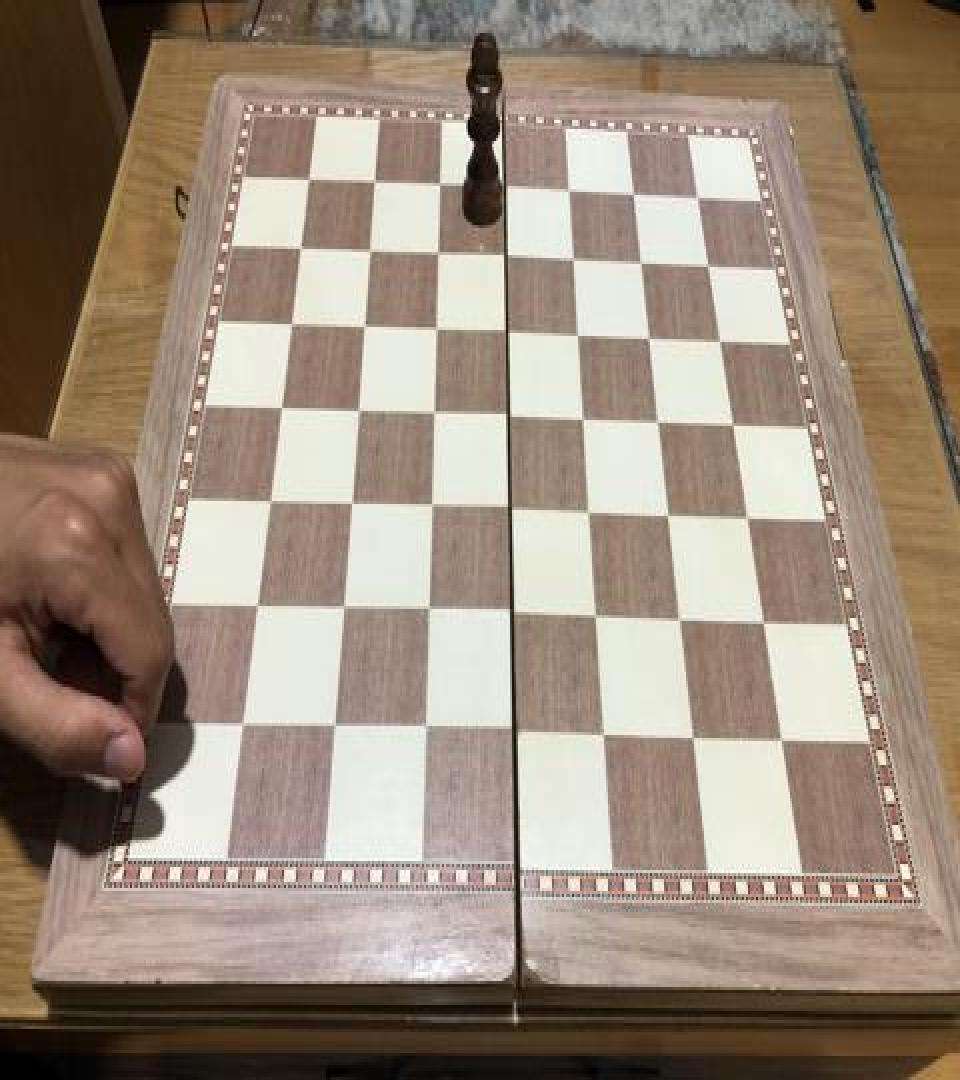xcorner: (668, 601, 692, 638), (591, 718, 615, 755), (410, 712, 434, 749), (686, 177, 710, 213), (621, 174, 645, 210), (492, 171, 516, 207), (427, 168, 451, 204), (362, 166, 386, 202), (297, 165, 321, 201), (697, 244, 721, 280), (629, 243, 653, 279), (561, 242, 585, 278), (493, 238, 517, 274), (425, 237, 449, 273), (356, 236, 380, 272), (288, 232, 312, 268), (709, 321, 733, 357), (637, 318, 661, 354), (566, 316, 590, 352), (494, 315, 518, 351), (422, 312, 446, 348), (351, 310, 375, 346), (279, 308, 303, 344), (722, 405, 746, 441), (646, 402, 670, 438), (571, 400, 595, 436), (495, 399, 519, 435), (420, 396, 444, 432), (344, 394, 368, 430), (269, 392, 293, 428), (736, 498, 760, 534), (657, 496, 681, 532), (577, 494, 601, 530), (497, 492, 521, 528), (417, 489, 441, 525), (337, 488, 361, 524), (257, 484, 281, 520), (753, 604, 777, 640), (583, 598, 607, 634), (499, 597, 523, 633), (414, 594, 438, 630), (329, 592, 353, 628), (244, 590, 268, 626), (771, 723, 795, 759), (681, 720, 705, 756), (501, 716, 525, 752), (320, 711, 344, 747), (229, 708, 253, 744), (556, 173, 580, 208)
